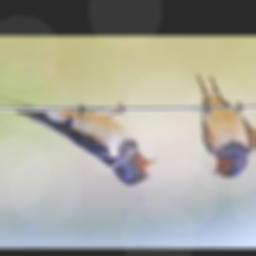Swallow: (0, 94, 160, 186), (197, 74, 255, 180)
